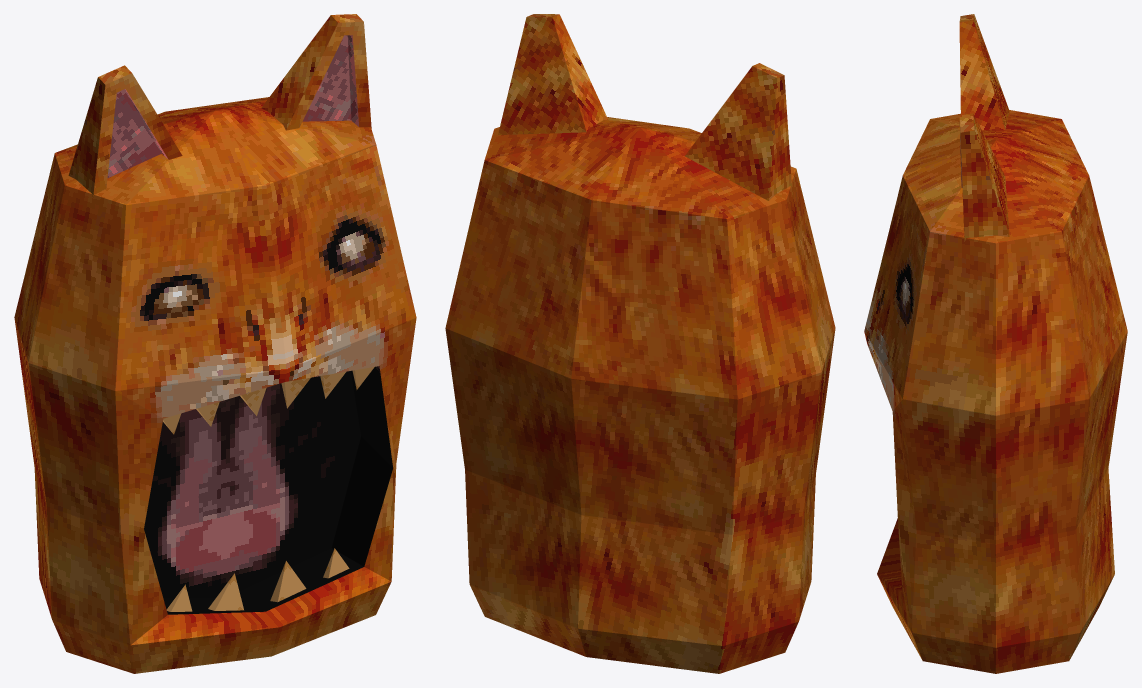
Rendered from Cat.glb.
3 renders of one model, left to right at view 1: azimuth 30°, elevation 25°; view 2: azimuth 150°, elevation 25°; view 3: azimuth 270°, elevation 25°, orthographic. The views are drawn at different scales.
Parts seen in each view (by area): view 1: Cat; view 2: Cat; view 3: Cat.
Boxes of the visible parts, box(x1,y1,x2,y2) form: Cat: box(14, 14, 416, 673); Cat: box(445, 14, 835, 673); Cat: box(864, 14, 1127, 673).
Size of the model in its own units: 1.81 by 2.71 by 1.2.
Materials: 1 (1 with a texture image).
